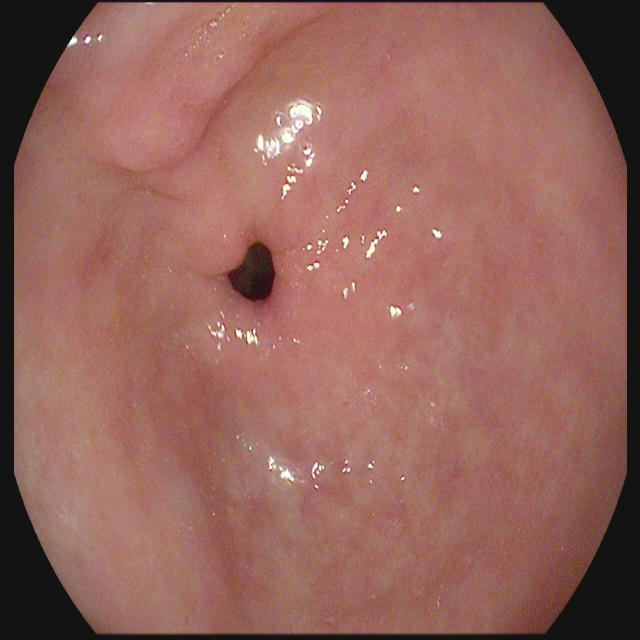normal-pylorus: (81, 5, 395, 359)
